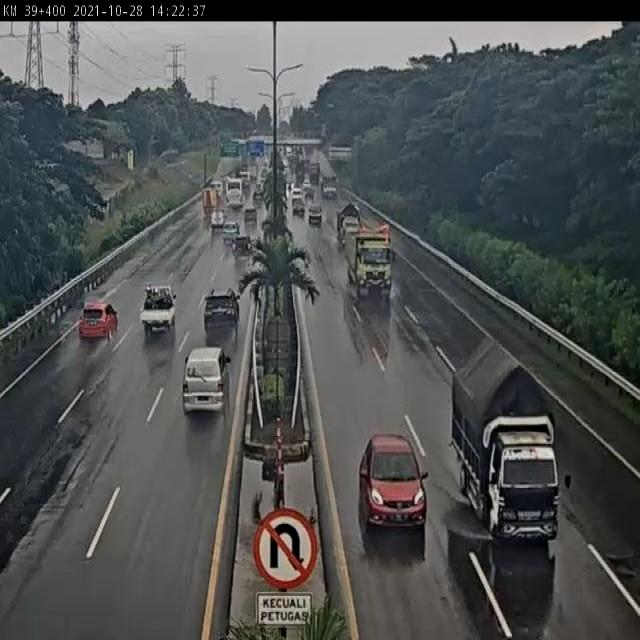Bus: (225, 178, 242, 208)
Car: (359, 434, 429, 536), (138, 283, 178, 339), (80, 299, 122, 346), (202, 287, 242, 334), (234, 233, 253, 260), (308, 200, 325, 227), (222, 219, 241, 243), (243, 204, 258, 230), (209, 208, 228, 228)
Truck: (451, 333, 572, 542), (341, 219, 396, 298), (338, 201, 362, 246), (202, 186, 218, 212)
Van: (182, 347, 234, 418)
